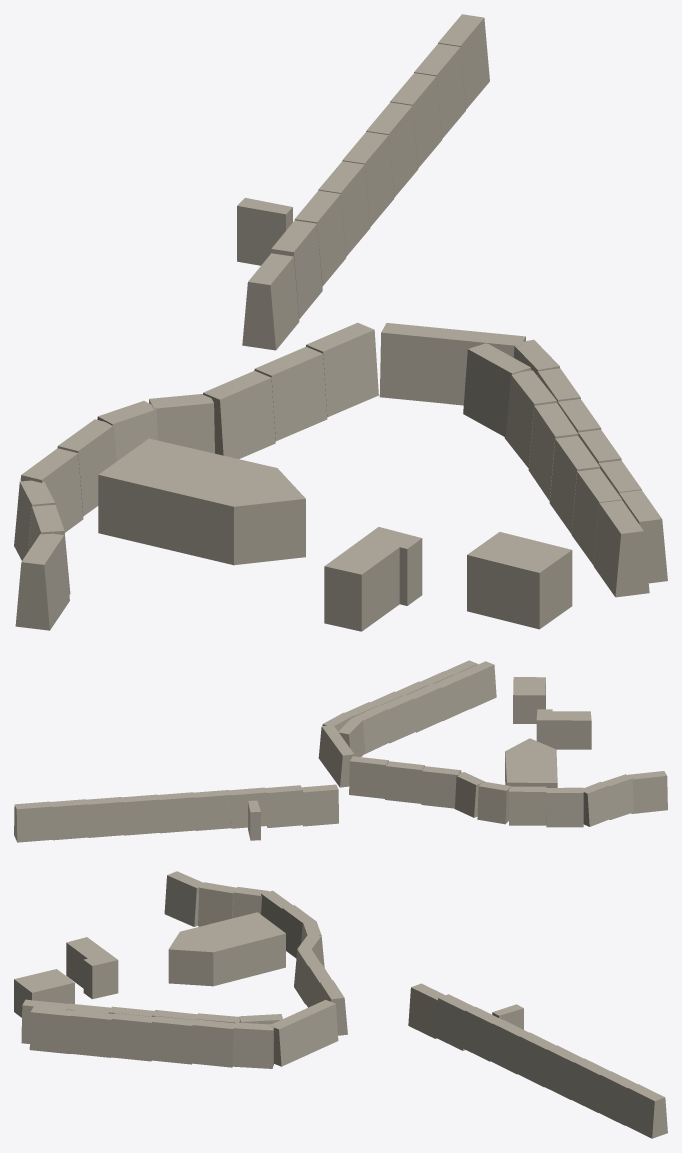
The model's file is bormla_63_32_mid.glb.
3 renders of one model, top to bottom at view 1: azimuth 30°, elevation 25°; view 2: azimuth 150°, elevation 25°; view 3: azimuth 270°, elevation 25°, orthographic. The views are drawn at different scales.
Visible parts, largest first — view 1: geometry_0; view 2: geometry_0; view 3: geometry_0.
Part boxes in pixels (box(x1,y1,x2,y2)): geometry_0: box(14, 14, 667, 631); geometry_0: box(14, 660, 667, 842); geometry_0: box(14, 871, 667, 1138).
Bounding box in the file's own units: 171 × 17.84 × 189.
